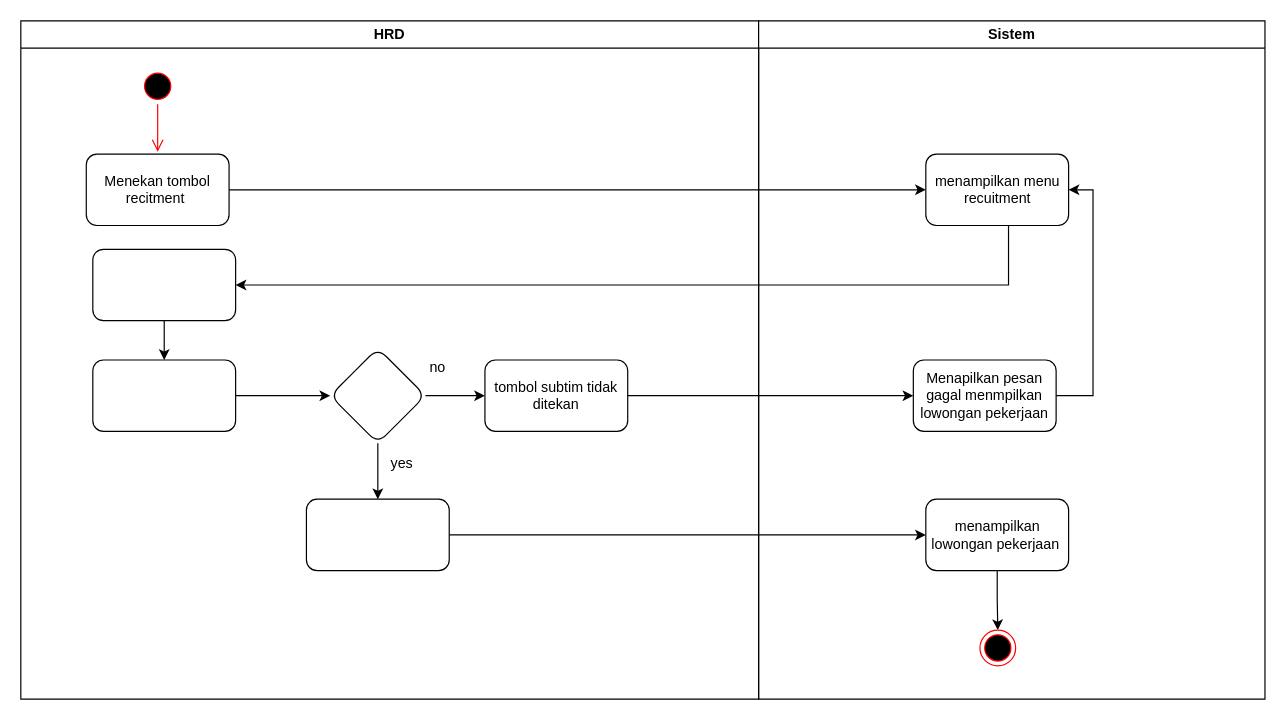
This 1286x720 diagram has some shape labels left out. Each missing label, with the box of its shape:
Membuat detail data lowongan baru: (92, 359, 236, 431)
memilih opsi pada menu reutment: (92, 248, 236, 321)
menekan tombol submit: (305, 498, 449, 571)
